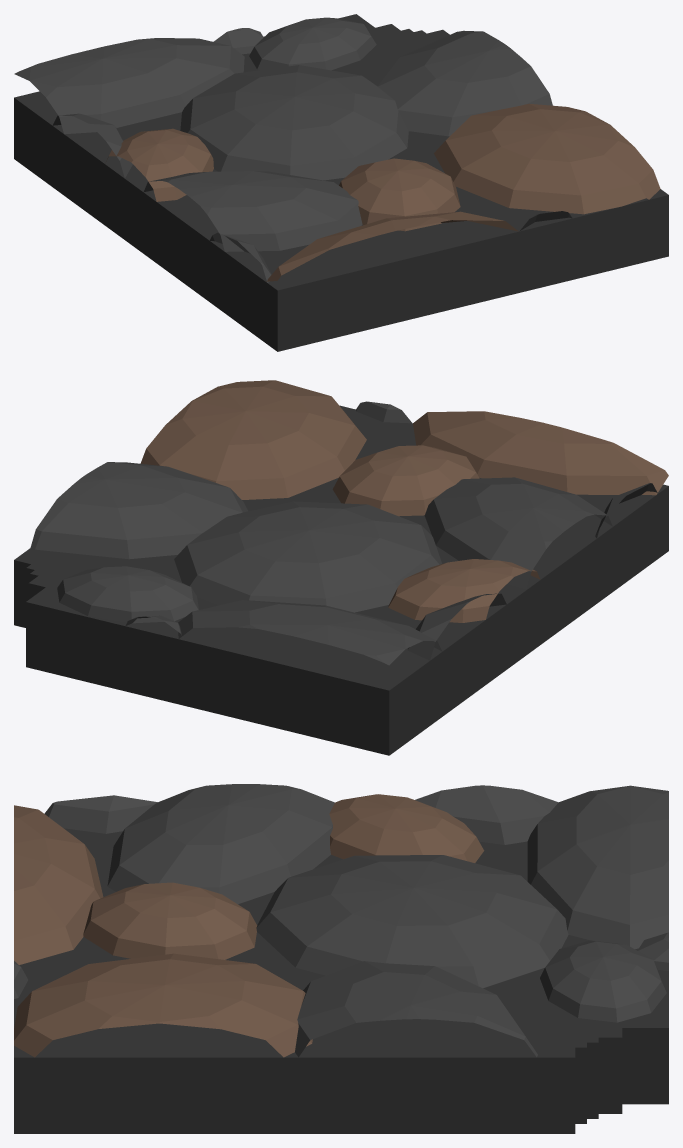
3 views of the same model, one above another, from view 1: azimuth 30°, elevation 25°; view 2: azimuth 150°, elevation 25°; view 3: azimuth 270°, elevation 25° (orthographic). The views are drawn at different scales.
Visible parts, largest first — view 1: shapesz-t124; view 2: shapesz-t124; view 3: shapesz-t124.
Part boxes in pixels (left/top/right/bottom): shapesz-t124: left=14, top=14, right=668, bottom=351; shapesz-t124: left=14, top=380, right=668, bottom=755; shapesz-t124: left=14, top=784, right=668, bottom=1133.
Bounding box in the file's own units: 2 × 0.458 × 2.33.
